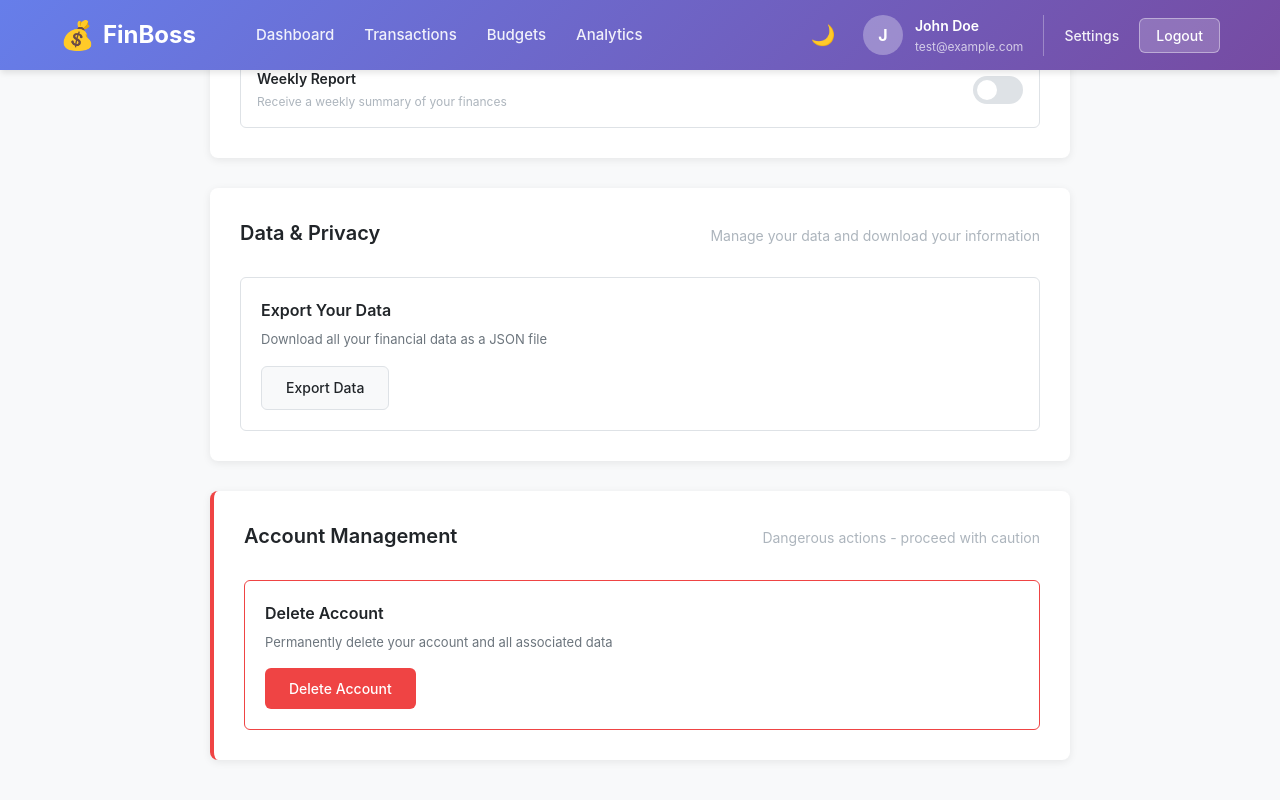
Scenario: Settings Page › Account Management Section › should show confirmation modal when delete button is clicked
The width and height of the screenshot is (1280, 800).
(page scrolled)
What coordinates should you click on to do the following:
click the button "Delete Account"
I would click on:
 (340, 688)
Its box is top-left (265, 668), bottom-right (416, 709).
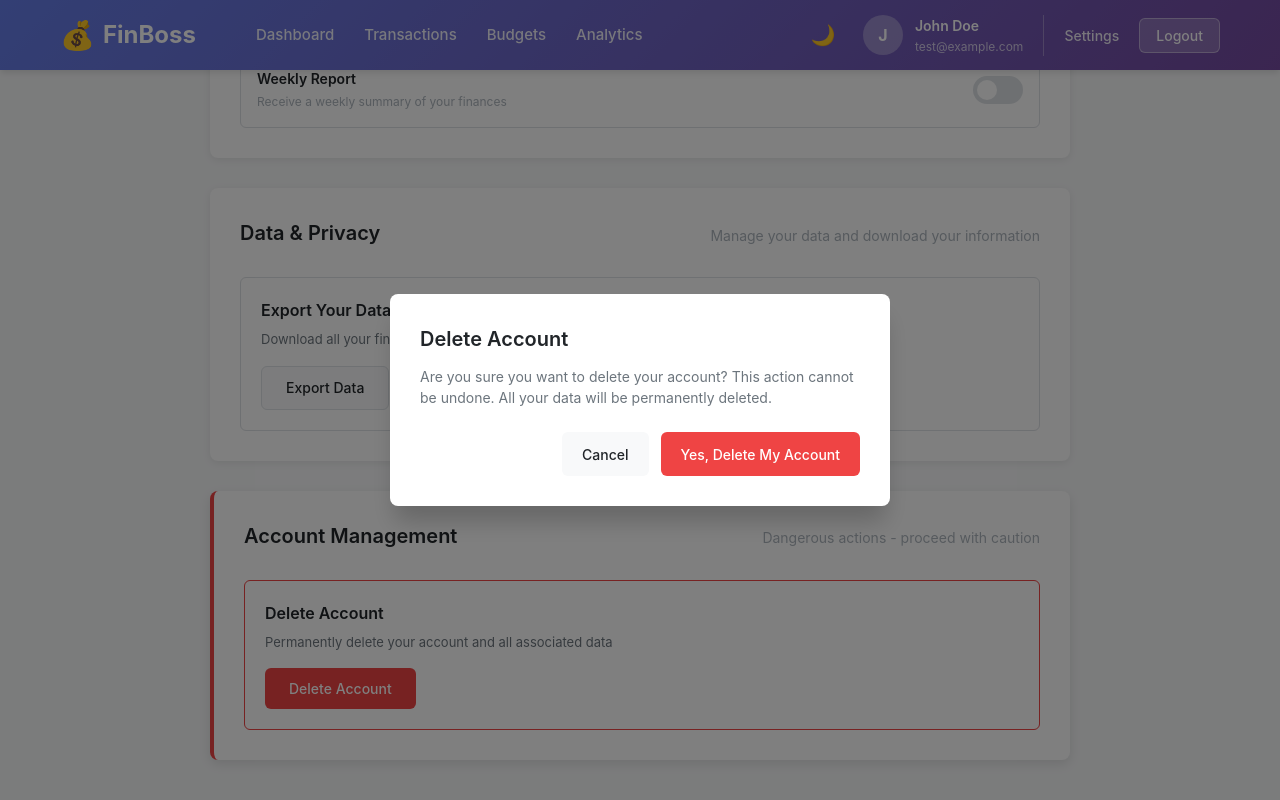
Expected: the text "Are you sure you want to delete your account" is shown, top-left (420, 368), bottom-right (854, 406)
